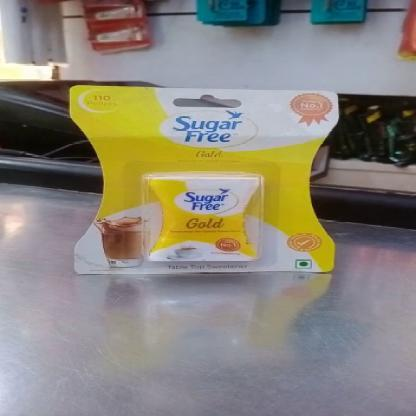SUGAR FREE GOLD 500 PELLET: (70, 86, 336, 274)
